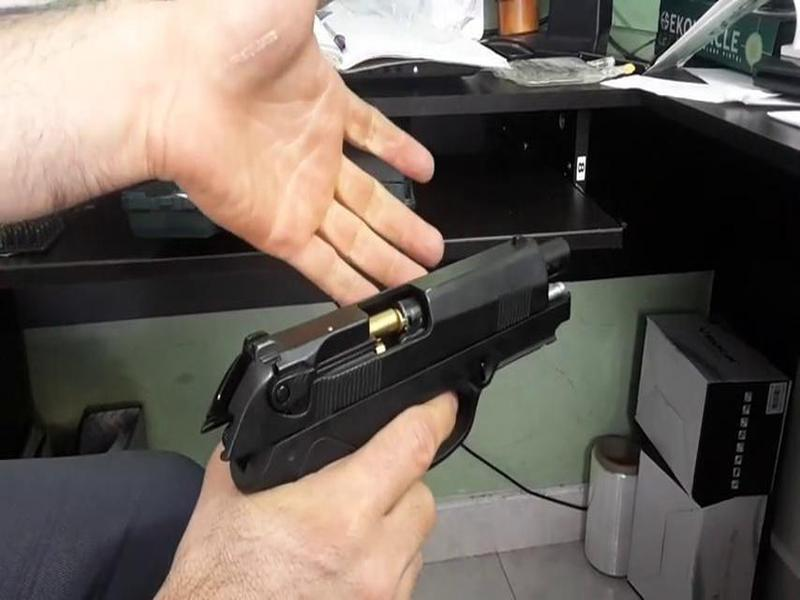Pistola: (202, 217, 581, 524)
